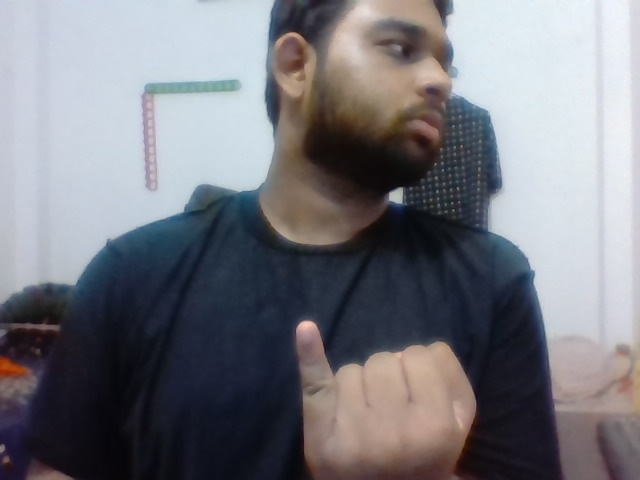I: (283, 315, 483, 478)
